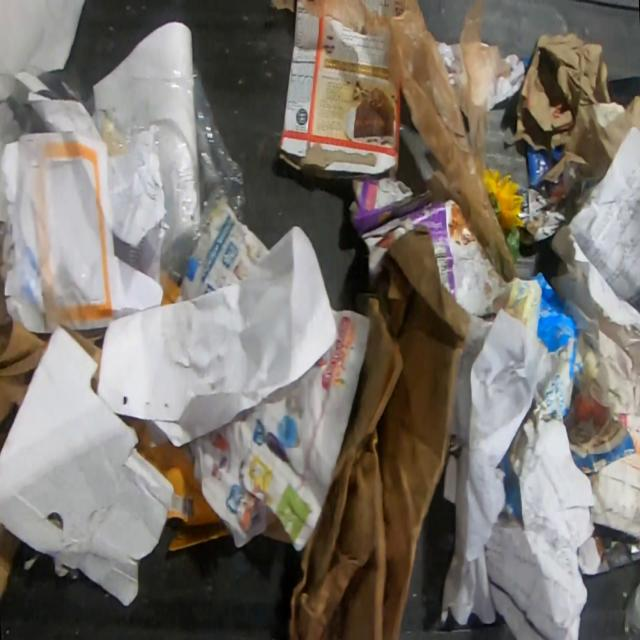cardboard: (287, 230, 471, 640), (0, 321, 178, 609), (278, 0, 401, 182), (348, 178, 508, 316), (514, 30, 640, 183), (494, 271, 597, 420), (0, 212, 51, 457), (583, 413, 640, 543), (361, 0, 397, 15)
soft_plastic: (302, 0, 519, 283), (82, 63, 246, 291), (0, 59, 82, 160)
